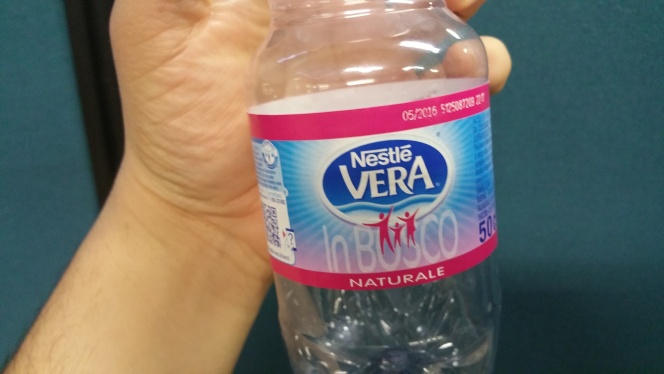bottle: (236, 1, 512, 374)
